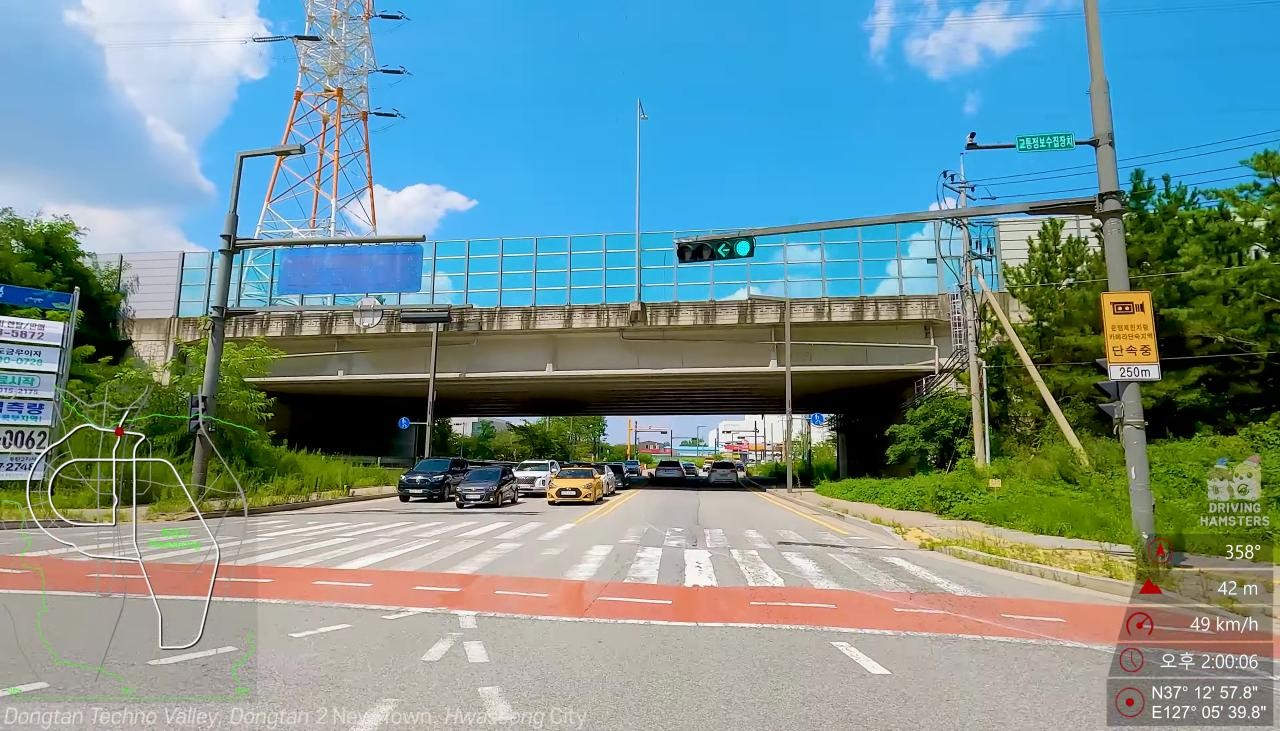Green Light: (734, 239, 752, 257)
Left turn: (716, 241, 731, 260)
